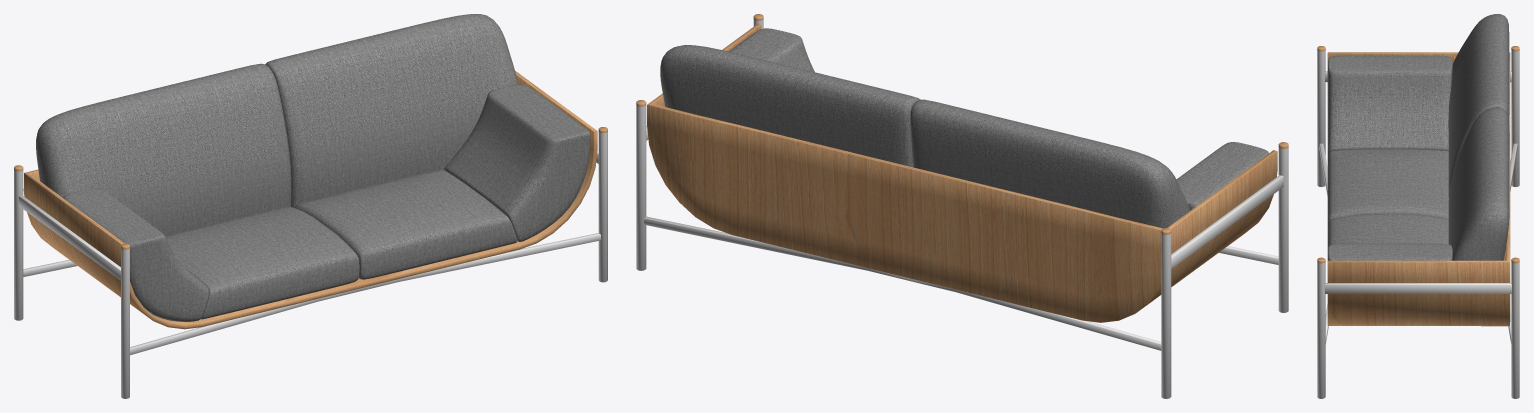
The picture shows the model from 3 angles, left to right: view 1: azimuth 30°, elevation 25°; view 2: azimuth 150°, elevation 25°; view 3: azimuth 270°, elevation 25°; orthographic projection. The views are drawn at different scales.
Parts seen in each view (by area): view 1: Seat - Rest, Frame, Wood; view 2: Wood, Seat - Rest, Frame; view 3: Seat - Rest, Wood, Frame.
Boxes of the visible parts, bbox=[...] form: Seat - Rest: bbox=[36, 14, 590, 321]; Frame: bbox=[14, 127, 607, 398]; Wood: bbox=[23, 71, 597, 329]; Wood: bbox=[647, 24, 1277, 322]; Seat - Rest: bbox=[660, 28, 1268, 228]; Frame: bbox=[636, 14, 1288, 398]; Seat - Rest: bbox=[1328, 14, 1509, 260]; Wood: bbox=[1327, 52, 1510, 326]; Frame: bbox=[1317, 46, 1519, 398].
Size of the model in its own units: 2.44 by 0.9833 by 0.97.
Materials: 3 (2 with a texture image).
